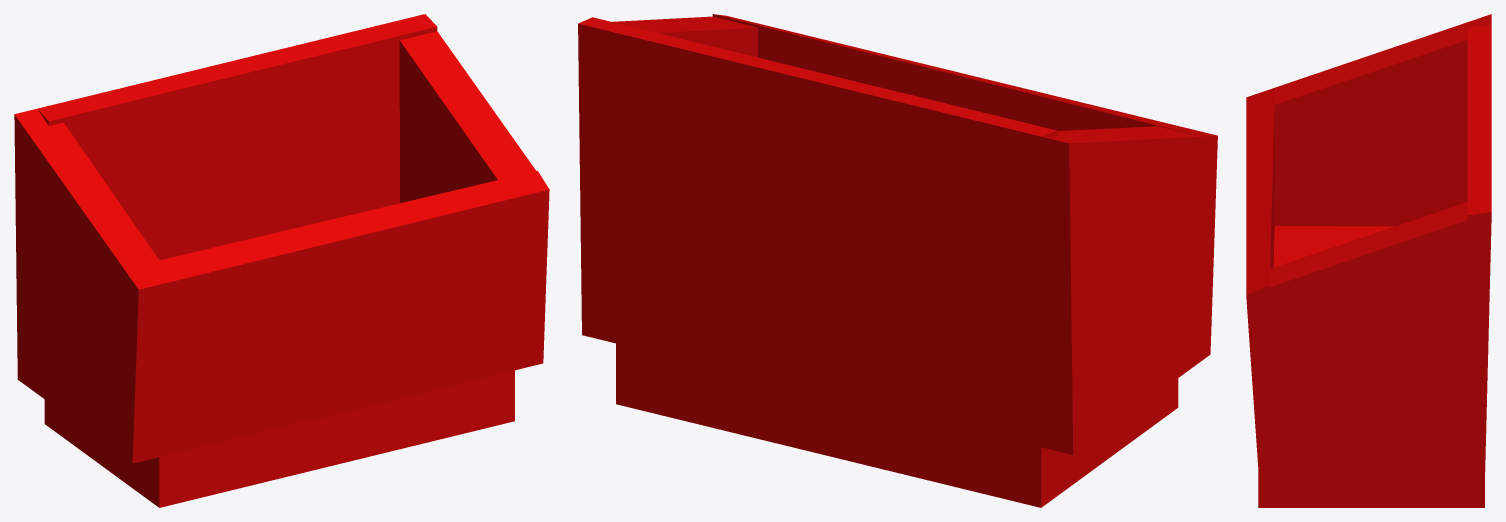
Rendered from SM_Prop_Dumpster_01_Collision.fbx.
3 renders of one model, left to right at view 1: azimuth 30°, elevation 25°; view 2: azimuth 150°, elevation 25°; view 3: azimuth 270°, elevation 25°, orthographic. The views are drawn at different scales.
Visible parts, largest first — view 1: SM_Prop_Dumpster_01_Collision; view 2: SM_Prop_Dumpster_01_Collision; view 3: SM_Prop_Dumpster_01_Collision.
Boxes of the visible parts, left/top/right/bottom form: SM_Prop_Dumpster_01_Collision: left=14, top=14, right=549, bottom=507; SM_Prop_Dumpster_01_Collision: left=578, top=14, right=1217, bottom=507; SM_Prop_Dumpster_01_Collision: left=1246, top=14, right=1491, bottom=507.
Bounding box in the file's own units: 241 × 176 × 126.
